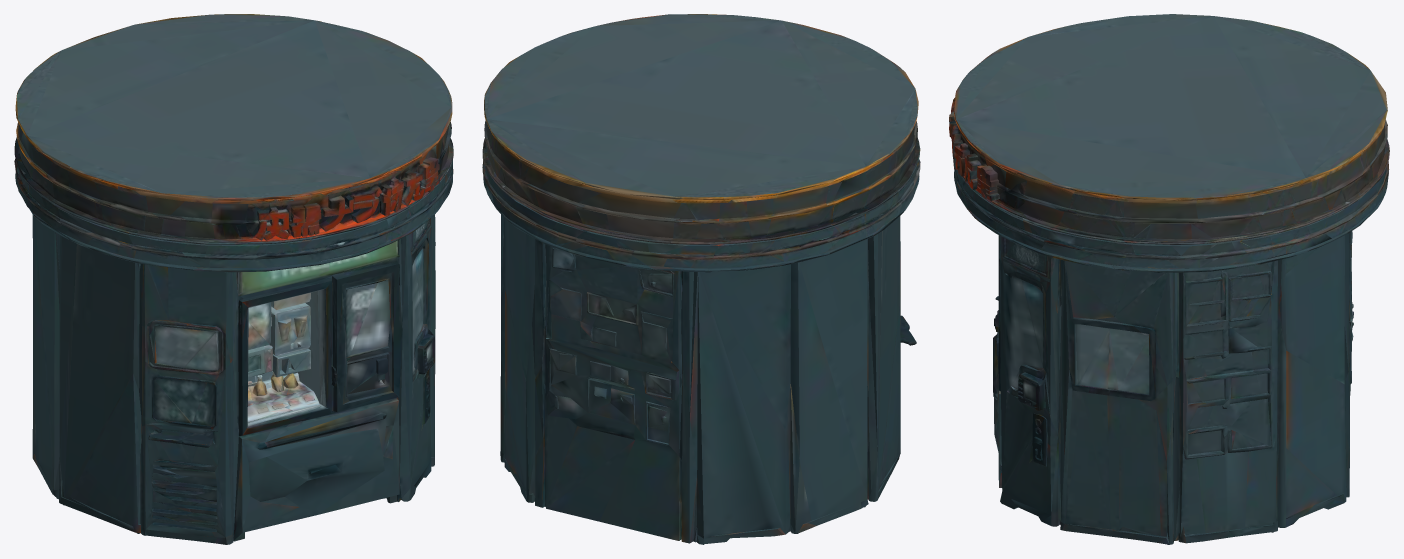
File: mx_vending_kiosk.glb
3 views of the same model, side by side, from view 1: azimuth 30°, elevation 25°; view 2: azimuth 150°, elevation 25°; view 3: azimuth 270°, elevation 25° (orthographic).
Bounding box in the file's own units: 1.89 × 1.69 × 1.9.
Materials: 1 (1 with a texture image).
